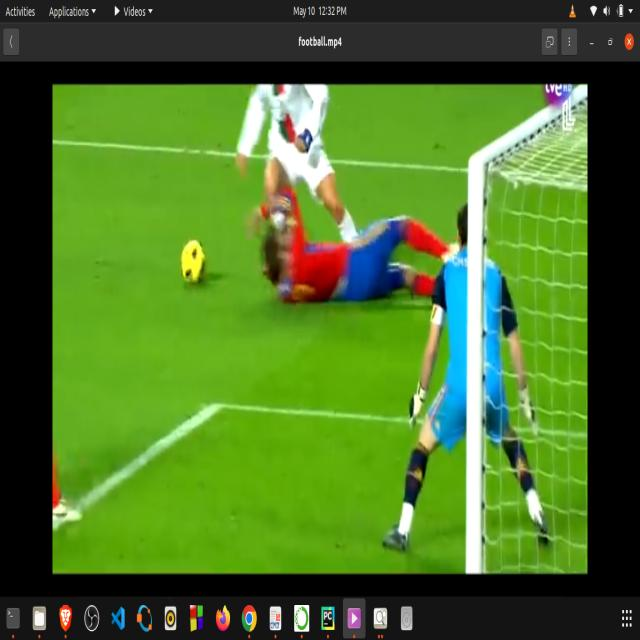ball: (173, 209, 219, 316)
player: (385, 180, 546, 555), (243, 194, 442, 301)
